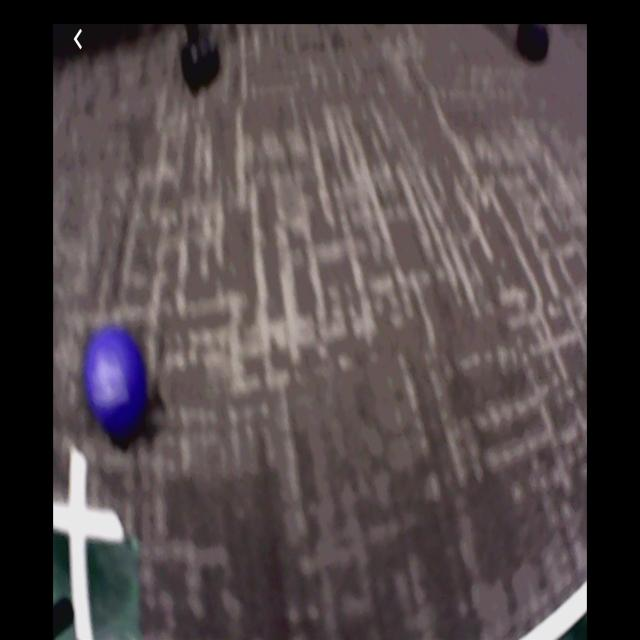ball: (85, 329, 149, 440)
